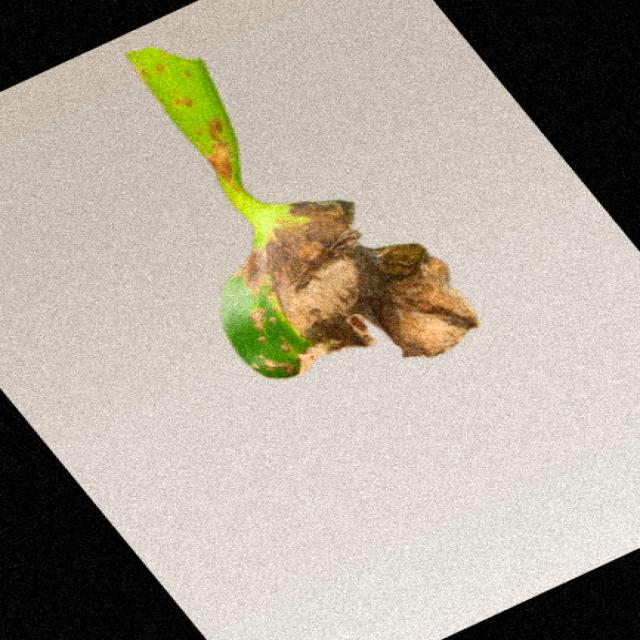daun berpenyakit karat: (127, 48, 478, 379)
